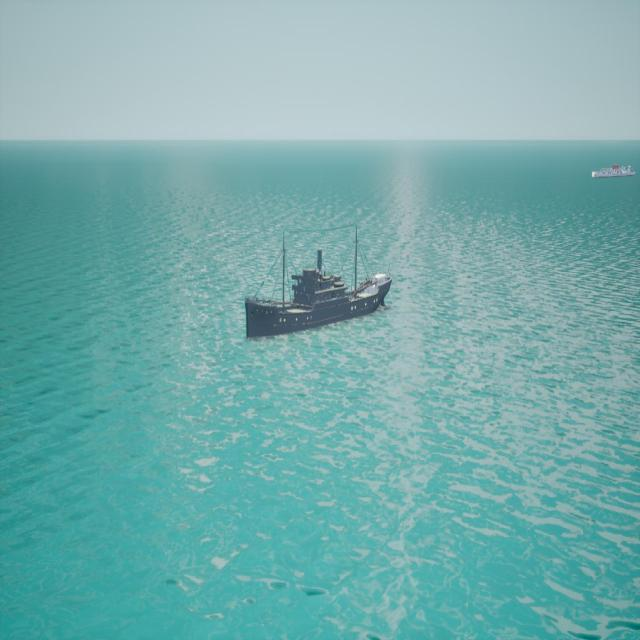fishing ship: (247, 244, 393, 339), (594, 165, 638, 181)
